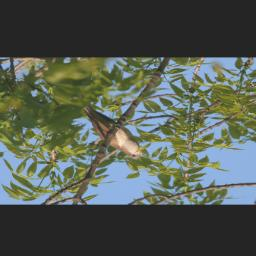Cuckoo: (81, 103, 148, 159)
